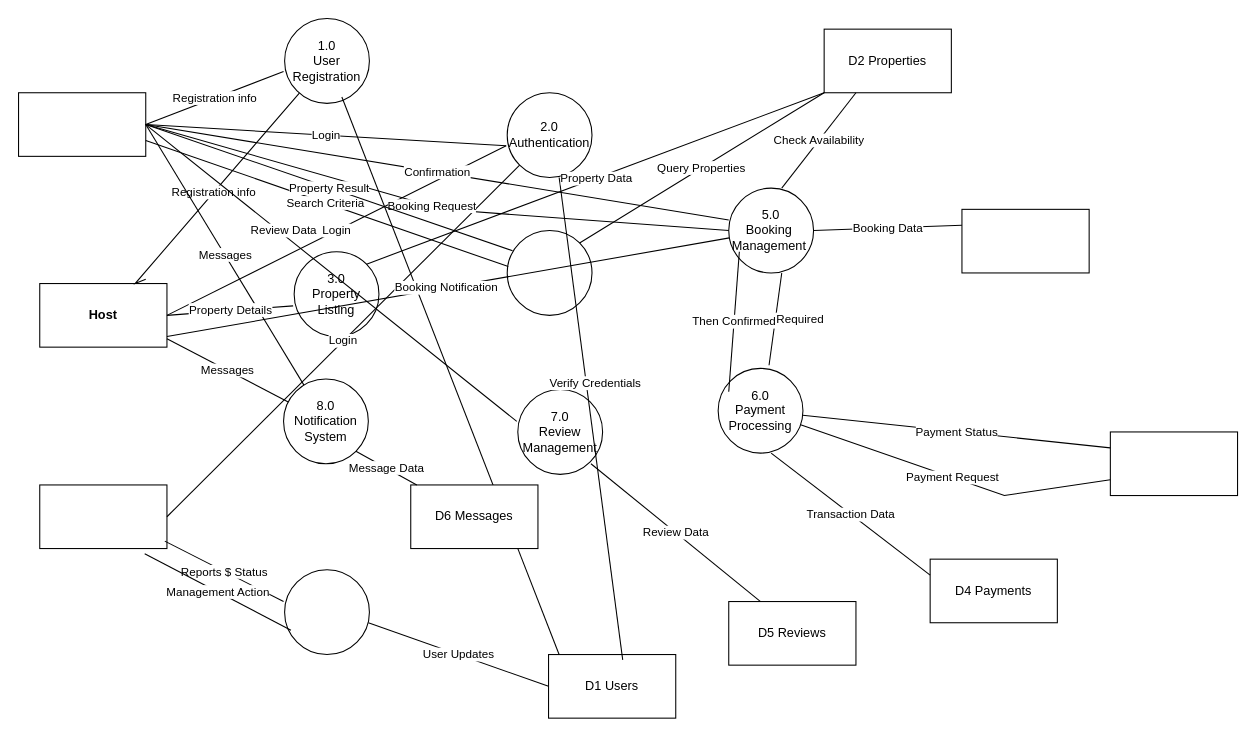
The diagram is 1256 pixels wide and 737 high, and some of its shapes have lost their labels. Each missing label, with the centre of its shape:
4.0 Property Search: the point at 549,272
9.0 User Management: the point at 326,612
Admin: the point at 103,516
D3 Bookings: the point at 1025,240
Guest: the point at 81,124
Payment Gateway: the point at 1173,463
